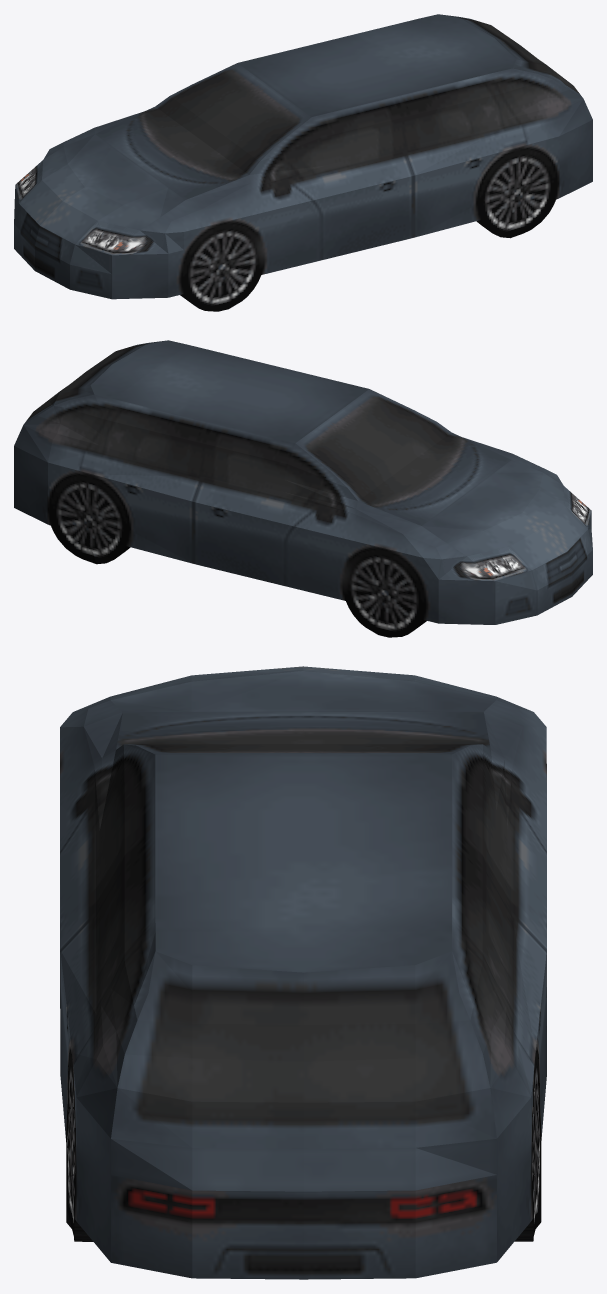
Rendered from carm.gltf.
3 renders of one model, top to bottom at view 1: azimuth 30°, elevation 25°; view 2: azimuth 150°, elevation 25°; view 3: azimuth 270°, elevation 25°, orthographic. The views are drawn at different scales.
Visible parts, largest first — view 1: commonCarBlue; view 2: commonCarBlue; view 3: commonCarBlue.
Boxes of the visible parts, left/top/right/bottom form: commonCarBlue: left=14, top=14, right=592, bottom=311; commonCarBlue: left=14, top=340, right=592, bottom=637; commonCarBlue: left=60, top=666, right=546, bottom=1279.
Size of the model in its own units: 4.91 by 1.32 by 1.97.
1 material, 1 textured.
